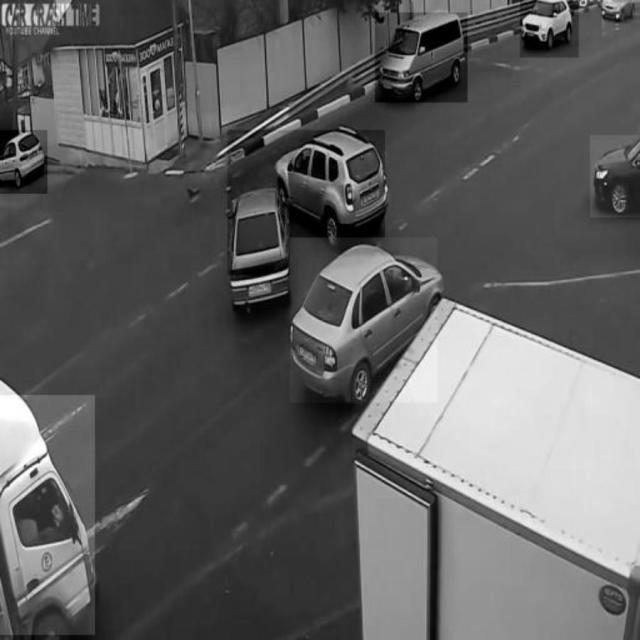accident: (227, 130, 385, 274)
vehicle: (291, 238, 438, 403), (0, 395, 94, 634), (375, 12, 468, 103), (590, 135, 640, 217), (520, 0, 578, 57), (0, 130, 47, 194)
